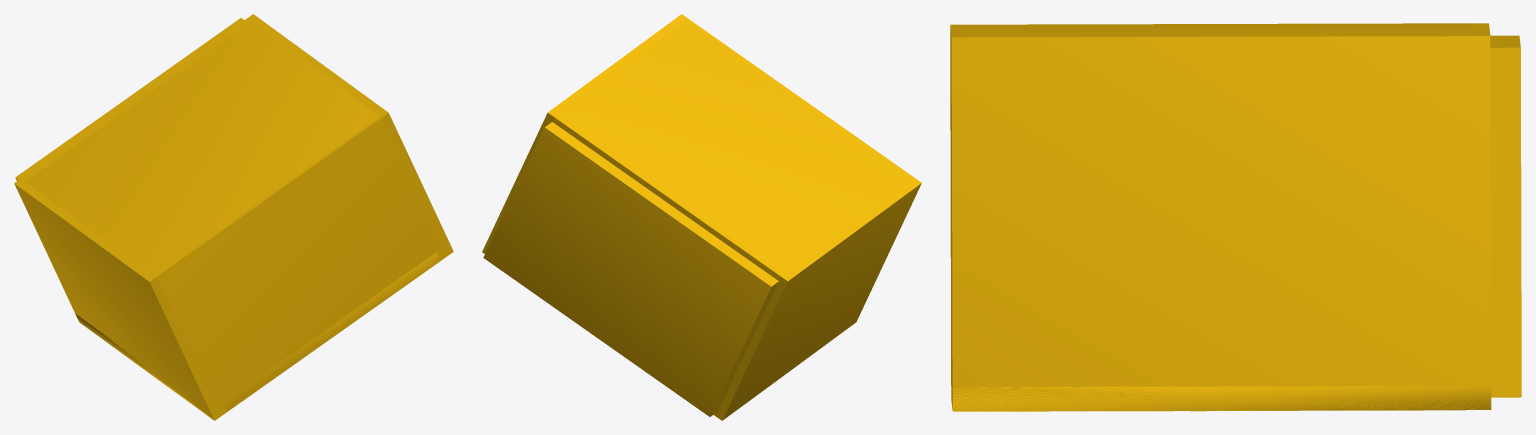
File: cabinet-1171.glb
3 renders of one model, left to right at view 1: azimuth 30°, elevation 25°; view 2: azimuth 150°, elevation 25°; view 3: azimuth 270°, elevation 25°, orthographic. The views are drawn at different scales.
Parts seen in each view (by area): view 1: HCRG_Cabinet1171_SourceFit02_rear_panel_001, HCRG_Cabinet1171_SourceFit02_top_panel_001, HCRG_Cabinet1171_SourceFit02_outer_side__1_001, HCRG_Cabinet1171_SourceFit02_outer_side_1_001, HCRG_Cabinet1171_SourceFit02_front_header_001, HCRG_Cabinet1171_SourceFit02_bottom_panel_001, HCRG_Cabinet1171_SourceFit02_estimated_plinth_001, HCRG_Cabinet1171_SourceFit02_front_jamb__1_001; view 2: HCRG_Cabinet1171_SourceFit02_estimated_plinth_001, HCRG_Cabinet1171_SourceFit02_rear_panel_001, HCRG_Cabinet1171_SourceFit02_outer_side__1_001, HCRG_Cabinet1171_SourceFit02_bottom_panel_001, HCRG_Cabinet1171_SourceFit02_outer_side_1_001, HCRG_Cabinet1171_SourceFit02_top_panel_001; view 3: HCRG_Cabinet1171_SourceFit02_outer_side_1_001, HCRG_Cabinet1171_SourceFit02_front_jamb_1_001, HCRG_Cabinet1171_SourceFit02_estimated_plinth_001, HCRG_Cabinet1171_SourceFit02_rear_panel_001, HCRG_Cabinet1171_SourceFit02_top_panel_001, HCRG_Cabinet1171_SourceFit02_outer_side__1_001.
Part boxes in pixels (bbox=[...]): HCRG_Cabinet1171_SourceFit02_rear_panel_001: bbox=[25, 22, 379, 275]; HCRG_Cabinet1171_SourceFit02_top_panel_001: bbox=[154, 116, 442, 413]; HCRG_Cabinet1171_SourceFit02_outer_side__1_001: bbox=[14, 178, 217, 420]; HCRG_Cabinet1171_SourceFit02_outer_side_1_001: bbox=[247, 14, 453, 251]; HCRG_Cabinet1171_SourceFit02_front_header_001: bbox=[223, 252, 440, 410]; HCRG_Cabinet1171_SourceFit02_bottom_panel_001: bbox=[21, 19, 250, 181]; HCRG_Cabinet1171_SourceFit02_estimated_plinth_001: bbox=[15, 18, 244, 180]; HCRG_Cabinet1171_SourceFit02_front_jamb__1_001: bbox=[75, 313, 227, 420]; HCRG_Cabinet1171_SourceFit02_estimated_plinth_001: bbox=[483, 122, 778, 416]; HCRG_Cabinet1171_SourceFit02_rear_panel_001: bbox=[559, 20, 912, 273]; HCRG_Cabinet1171_SourceFit02_outer_side__1_001: bbox=[717, 178, 921, 419]; HCRG_Cabinet1171_SourceFit02_bottom_panel_001: bbox=[552, 114, 784, 280]; HCRG_Cabinet1171_SourceFit02_outer_side_1_001: bbox=[483, 14, 688, 253]; HCRG_Cabinet1171_SourceFit02_top_panel_001: bbox=[687, 19, 914, 179]; HCRG_Cabinet1171_SourceFit02_outer_side_1_001: bbox=[951, 35, 1491, 411]; HCRG_Cabinet1171_SourceFit02_front_jamb_1_001: bbox=[952, 385, 1491, 411]; HCRG_Cabinet1171_SourceFit02_estimated_plinth_001: bbox=[1490, 35, 1521, 397]; HCRG_Cabinet1171_SourceFit02_rear_panel_001: bbox=[958, 23, 1473, 36]; HCRG_Cabinet1171_SourceFit02_top_panel_001: bbox=[950, 25, 959, 400]; HCRG_Cabinet1171_SourceFit02_outer_side__1_001: bbox=[950, 23, 1488, 384].
Bounding box in the file's own units: 1.04 × 0.8683 × 0.8455.
